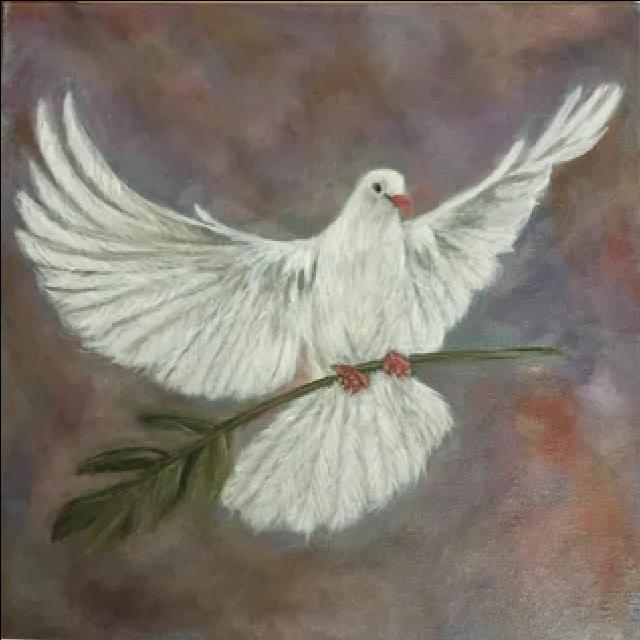pigeon: (9, 67, 629, 538)
